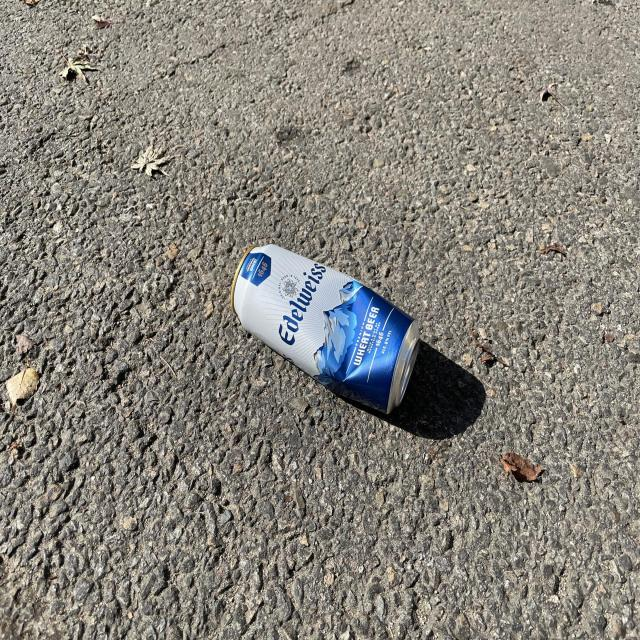can: (231, 244, 420, 414)
